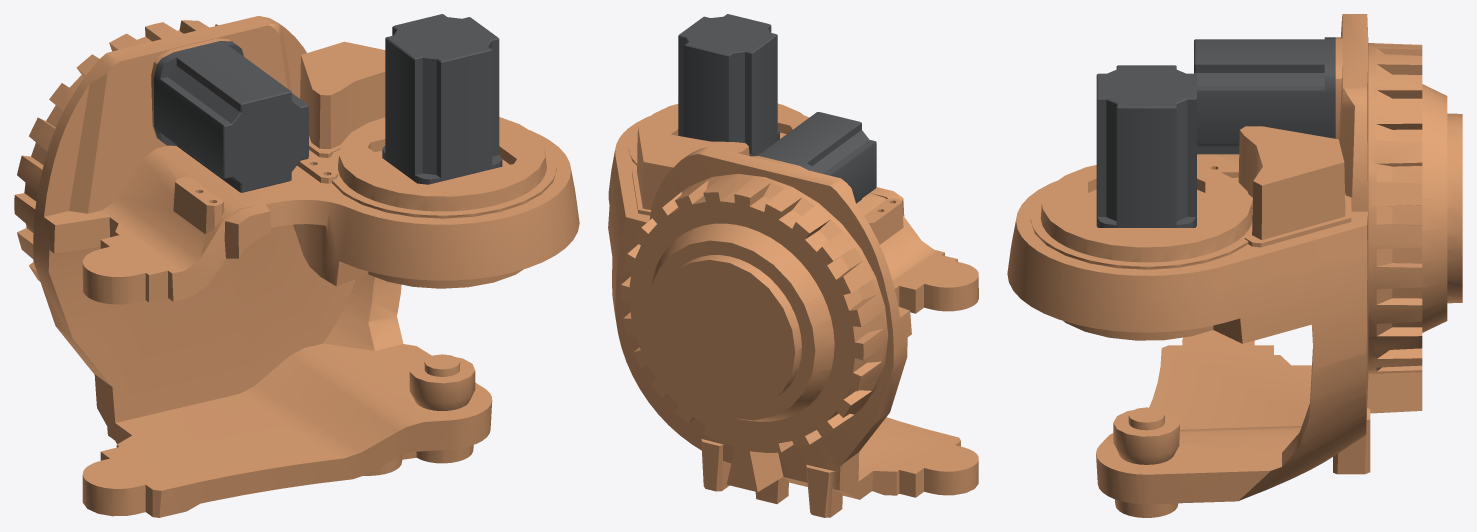
3 views of the same model, side by side, from view 1: azimuth 30°, elevation 25°; view 2: azimuth 150°, elevation 25°; view 3: azimuth 270°, elevation 25° (orthographic). The views are drawn at different scales.
Parts seen in each view (by area): view 1: Link_1; view 2: Link_1; view 3: Link_1.
Part boxes in pixels (bbox=[...]): Link_1: bbox=[14, 14, 579, 517]; Link_1: bbox=[608, 14, 978, 517]; Link_1: bbox=[1007, 14, 1462, 517].
Bounding box in the file's own units: 0.9204 × 0.8465 × 0.8164.
